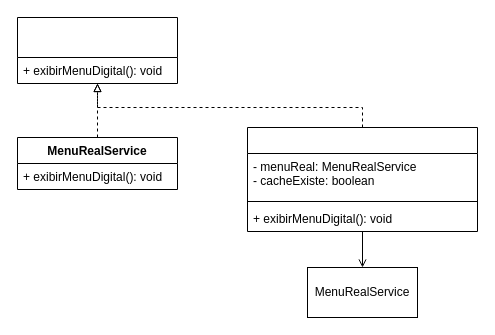
Image size: 495x335. Some labels were removed from this diagram. The shapes that lost their labels are listed below. From the top down, each one's box as (x1, y1, x2, y2) in pixels, then its label:
(16, 16, 178, 84): ExibicaoMenu <<interface>>
(246, 126, 478, 232): MenuProxyService
